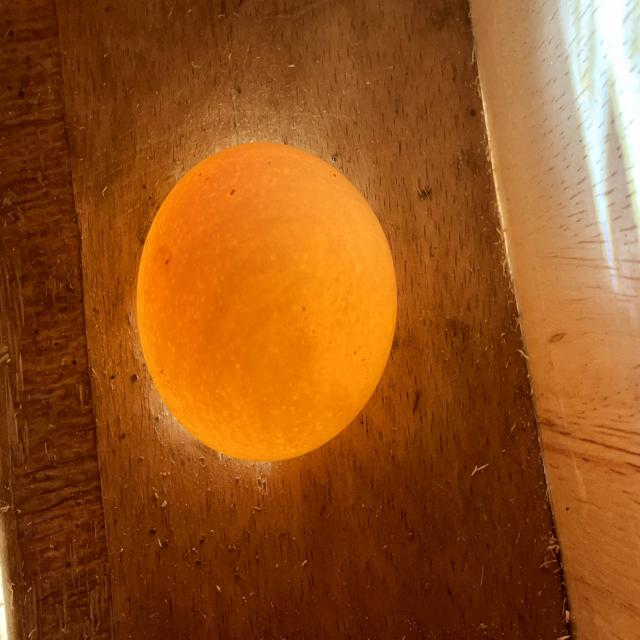infertile: (136, 143, 396, 462)
